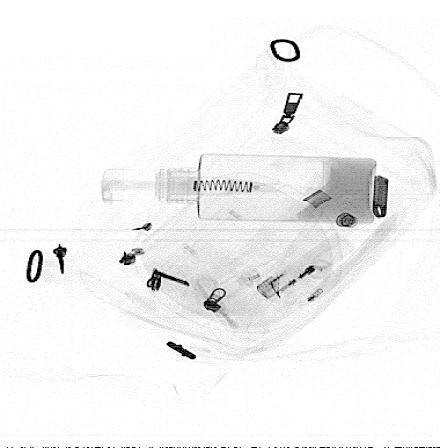Lighter: (255, 232, 354, 305)
